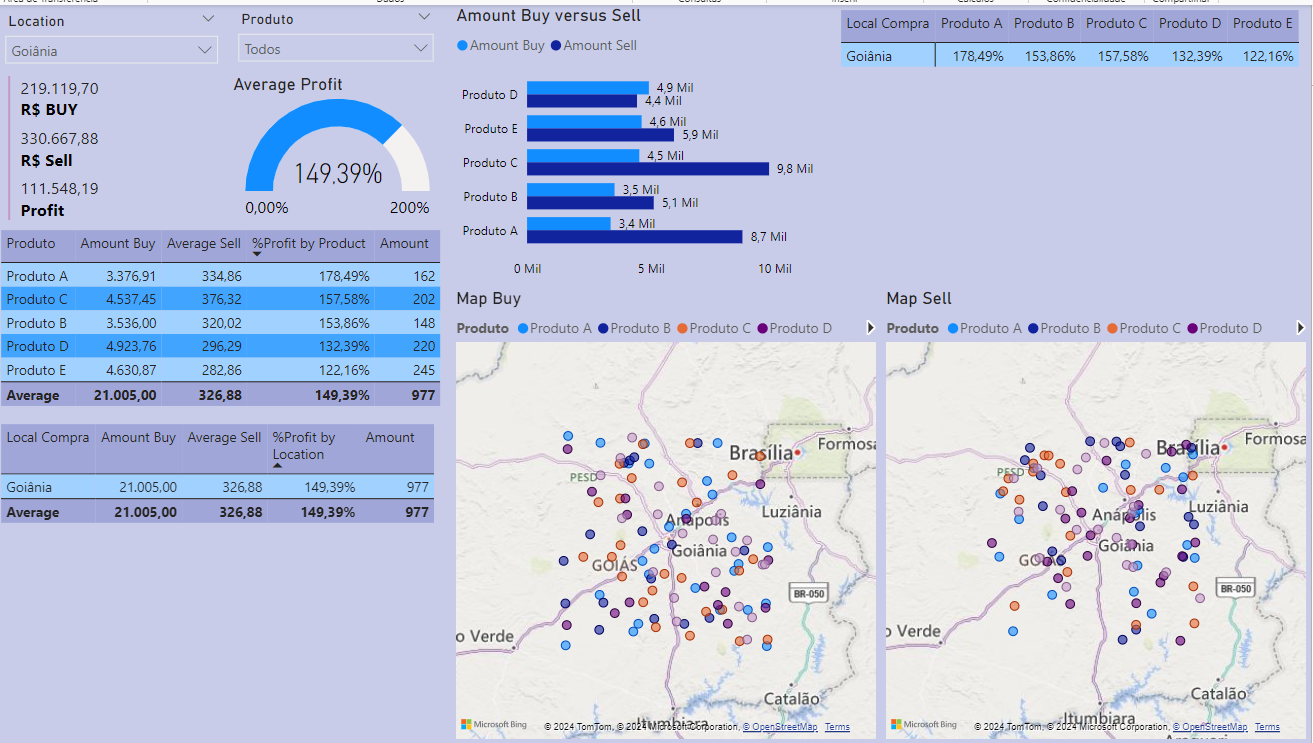

What the dashboard file says about the page in this screenshot:
{"tool":"powerbi","page":{"name":"Profit Page","canvas":[1280,720],"ordinal":0},"visuals":[{"type":"clusteredBarChart","title":"Amount Buy versus Sell","fields":{"Y":["Sum(compras.Preço Compra)","Sum(vendas.Preço Venda)"],"Category":["Product.Produto"]},"box":[443.5,0,374.5,275.3],"z":0},{"type":"tableEx","fields":{"Values":["Product.Produto","Sum(compras.Preço Compra)","Avg(vendas.Preço Venda)","TabelaDatas.%LPP","Sum(compras.Quantidade)"]},"box":[0,214,443.5,188.7],"z":1},{"type":"map","title":"Map Sell","fields":{"X":["compras.Longitude"],"Y":["compras.Latitude"],"Series":["Product.Produto"]},"box":[861.8,275.3,418.2,444.5],"z":2},{"type":"slicer","fields":{"Values":["Location.Local Compra"]},"box":[0,1.9,226.6,65.2],"z":3},{"type":"slicer","fields":{"Values":["Product.Produto"]},"box":[226.6,0,210.1,67.1],"z":4},{"type":"map","title":"Map Buy","fields":{"Series":["Product.Produto"],"Y":["vendas.Latitude"],"X":["vendas.Longitude"]},"box":[443.5,275.3,418.2,444.5],"z":5},{"type":"tableEx","fields":{"Values":["Location.Local Compra","Sum(compras.Preço Compra)","Avg(vendas.Preço Venda)","TabelaDatas.%LPP","Sum(compras.Quantidade)"]},"box":[0,402.7,443.5,317.1],"z":6},{"type":"pivotTable","fields":{"Rows":["Location.Local Compra"],"Values":["TabelaDatas.%LPP"],"Columns":["Product.Produto"]},"box":[818,0,462,275.3],"z":7},{"type":"gauge","title":"Average Profit ","fields":{"Y":["TabelaDatas.%LPP"],"MaxValue":["compras.Best"]},"box":[226.6,67.1,213,149.8],"z":8},{"type":"multiRowCard","fields":{"Values":["Location.Total_Compras","Location.Total_Vendas","Location.Lucro"]},"box":[7.8,64.2,211.1,149.8],"z":9}]}

Visuals, with their boxes in screenshot pixels (x1, y1, x2, y2), scaled from the page's 1280x720 canvas onto the 1313x743 screenshot:
"Amount Buy versus Sell" clusteredBarChart: <bbox>455, 0, 839, 284</bbox>
tableEx - Product.Produto x Sum(compras.Preço Compra): <bbox>0, 221, 455, 416</bbox>
"Map Sell" map: <bbox>884, 284, 1312, 742</bbox>
slicer - Location.Local Compra: <bbox>0, 2, 232, 69</bbox>
slicer - Product.Produto: <bbox>232, 0, 448, 69</bbox>
"Map Buy" map: <bbox>455, 284, 884, 742</bbox>
tableEx - Location.Local Compra x Sum(compras.Preço Compra): <bbox>0, 416, 455, 742</bbox>
pivotTable - Location.Local Compra x TabelaDatas.%LPP: <bbox>839, 0, 1312, 284</bbox>
"Average Profit " gauge: <bbox>232, 69, 451, 224</bbox>
multiRowCard - Location.Total_Compras x Location.Total_Vendas: <bbox>8, 66, 225, 221</bbox>
